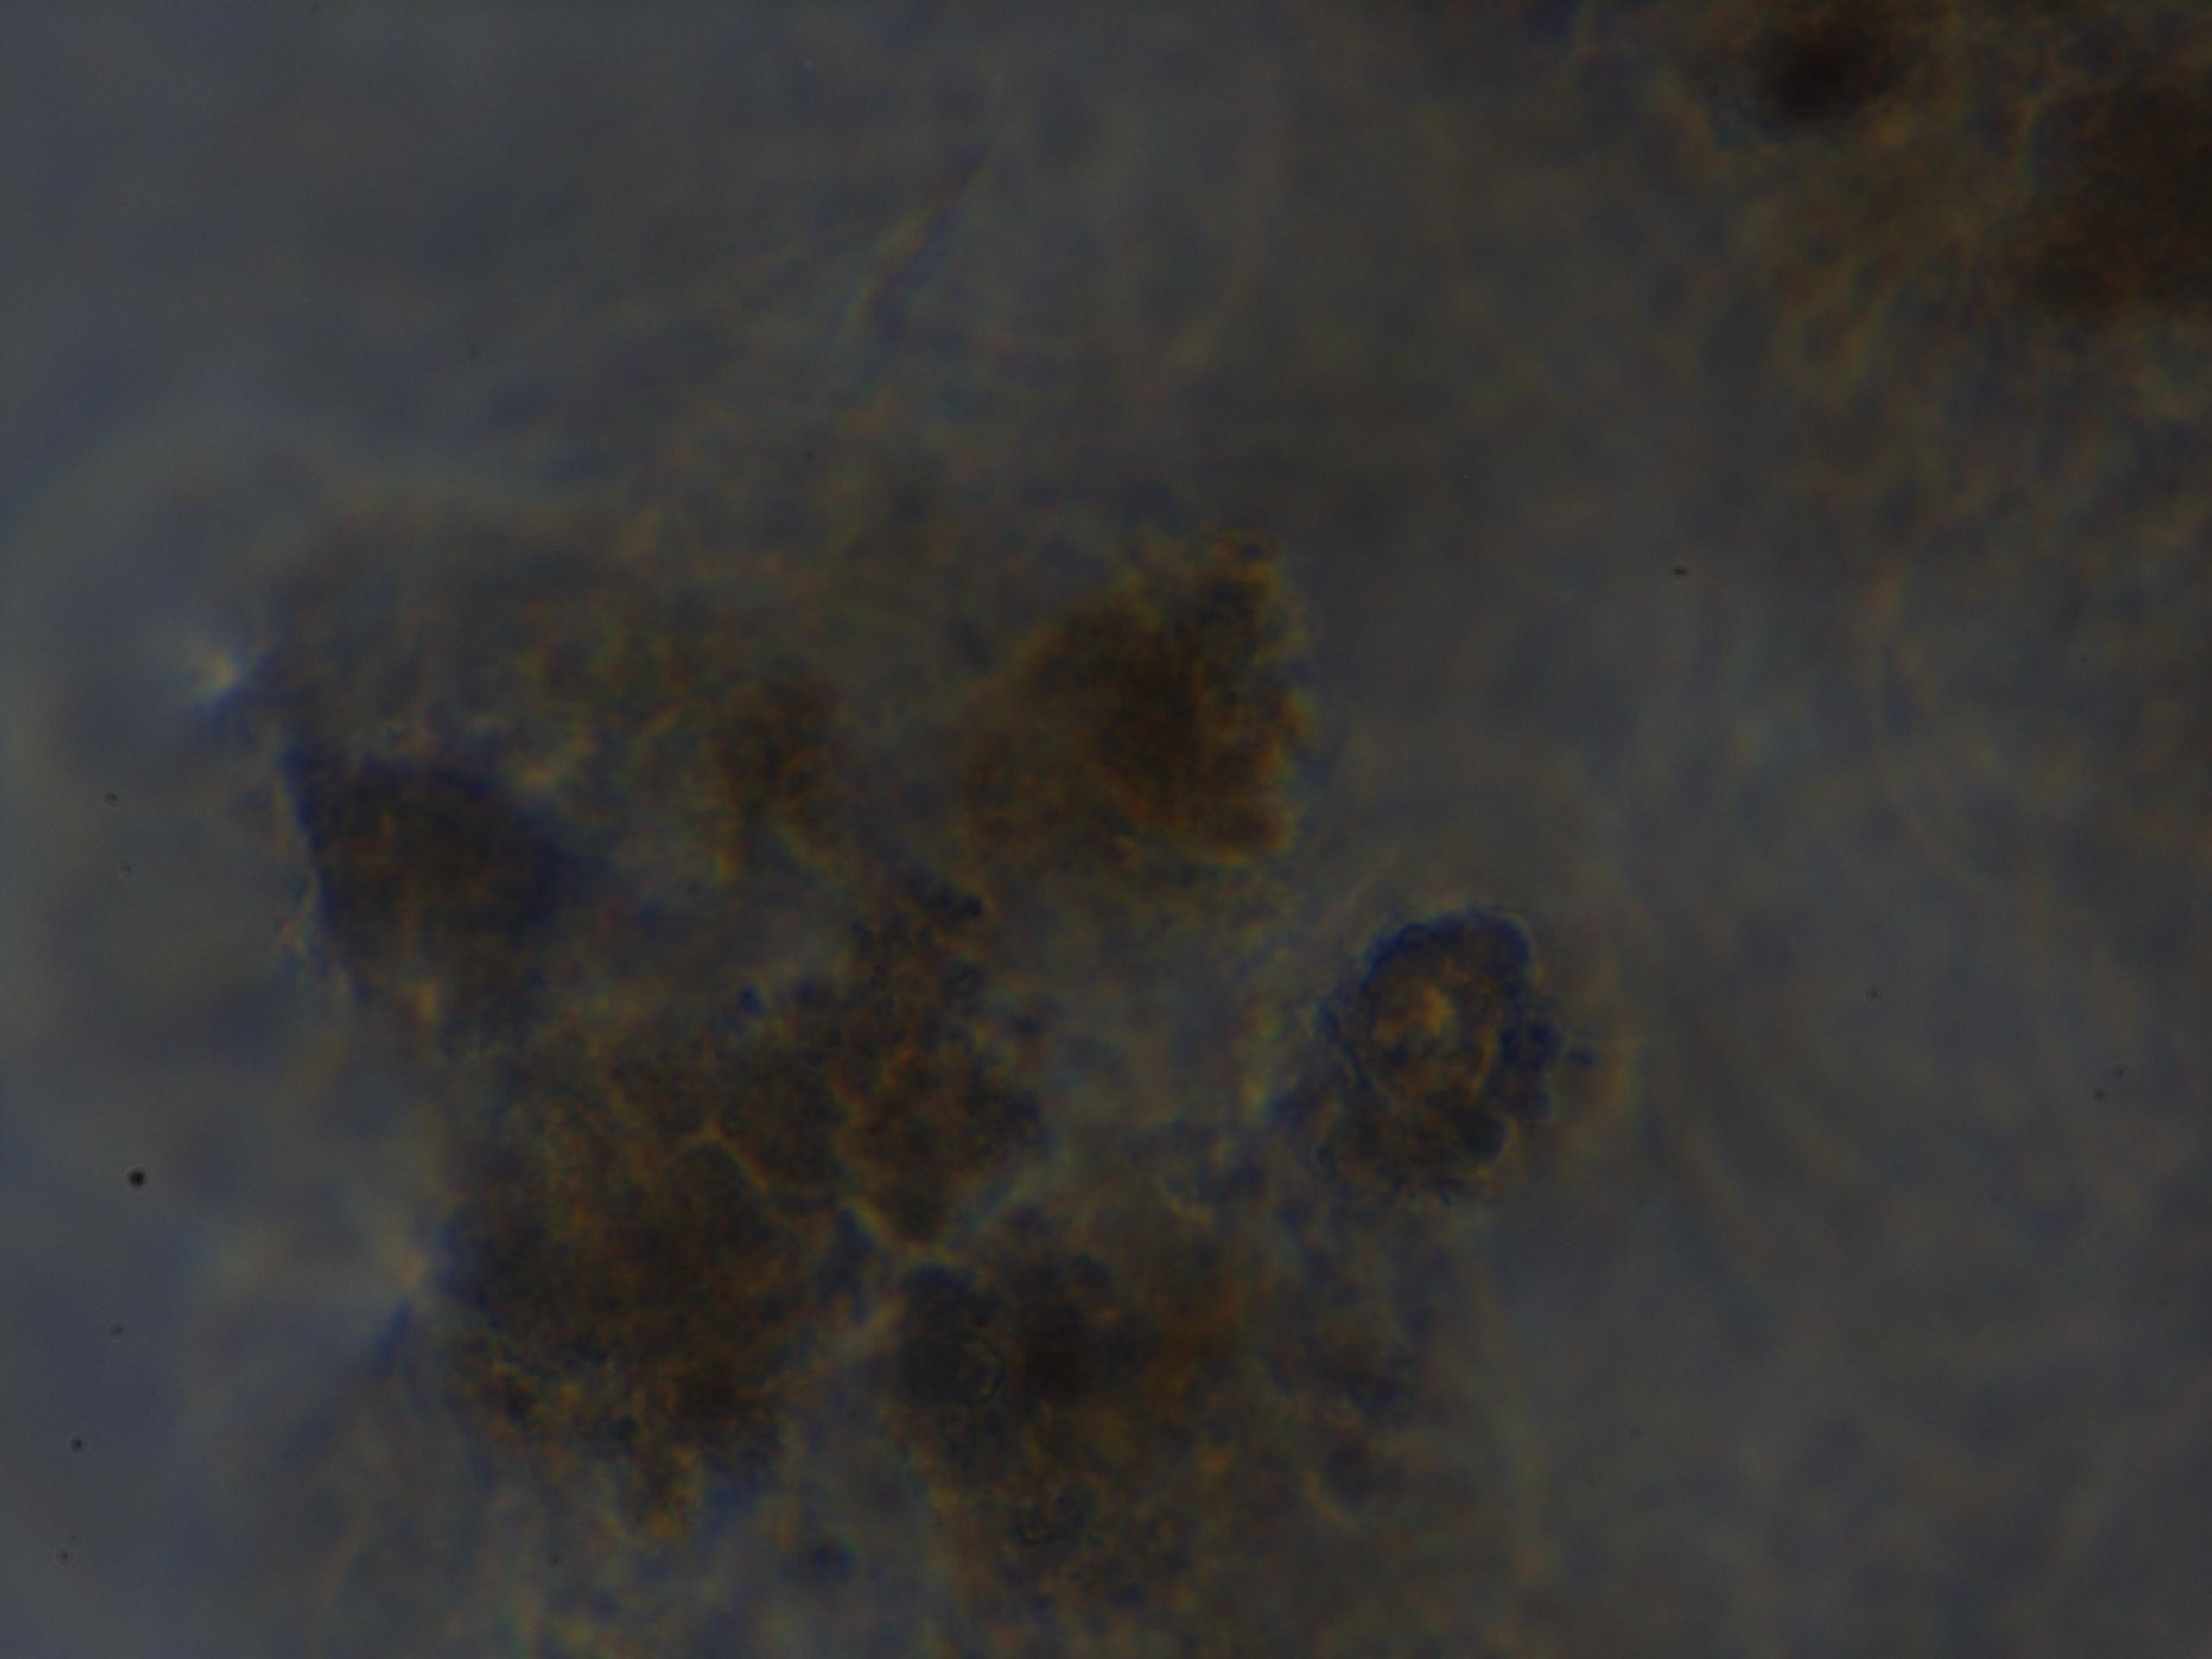open_floc: (277, 518, 1564, 1621)
